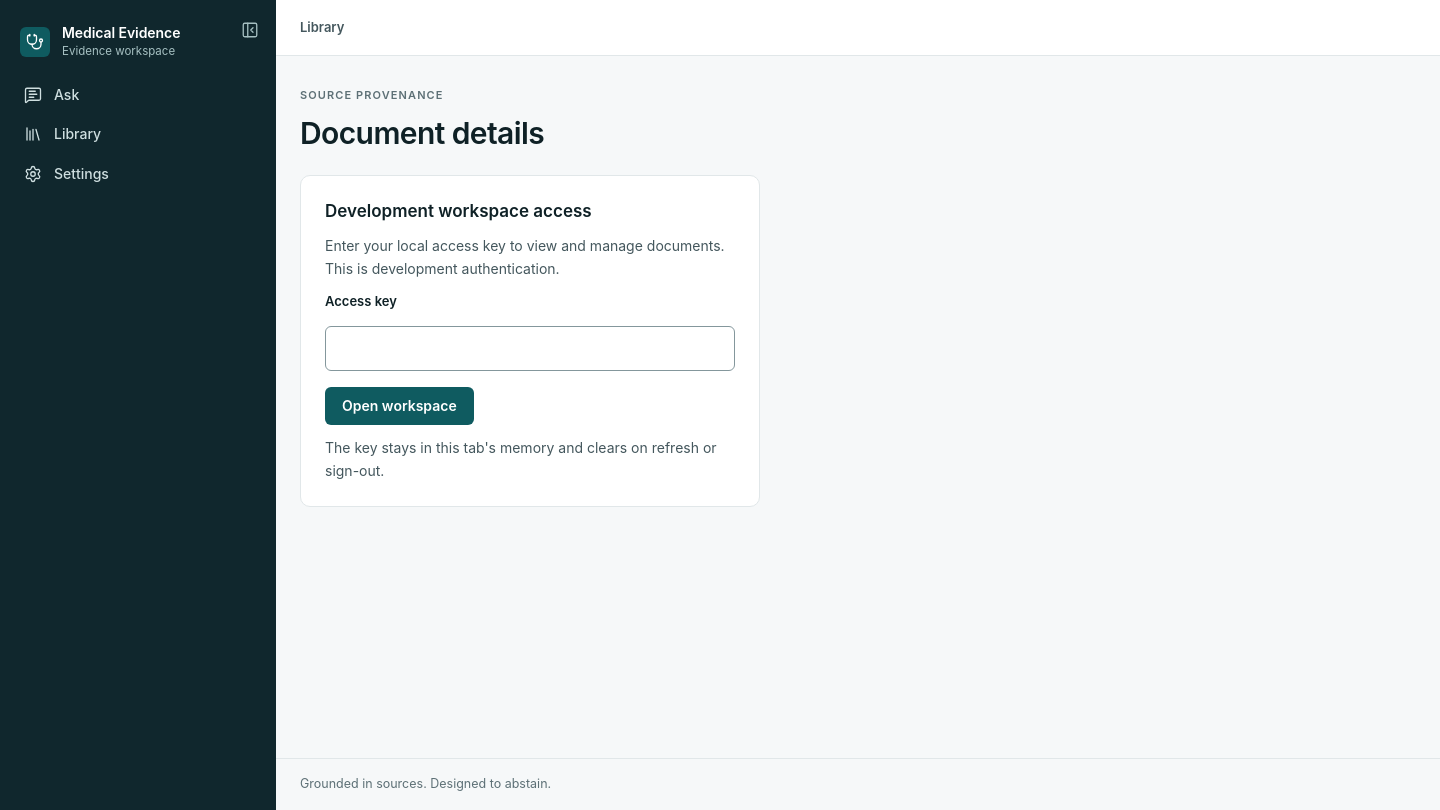
it: M2 parse status on the document details page › states plainly when a version has not been parsed
This screenshot has width=1440, height=810.
Type "local-test-key" into the password field labelled "Access key". click: (530, 349)
box: [325,326,735,371]
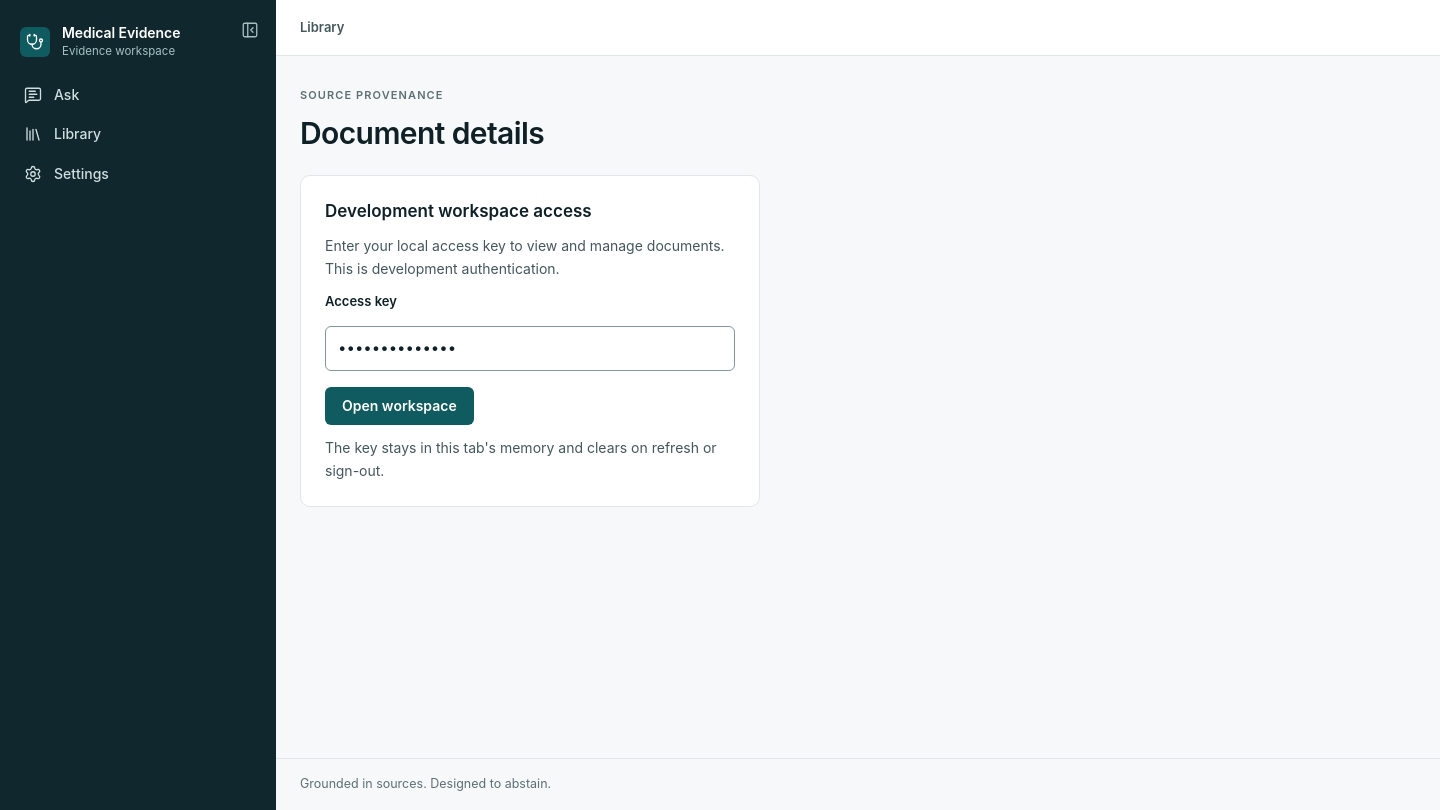
Click the button "Open workspace". click: (399, 406)
box: [325,387,474,425]
(page scrolled)
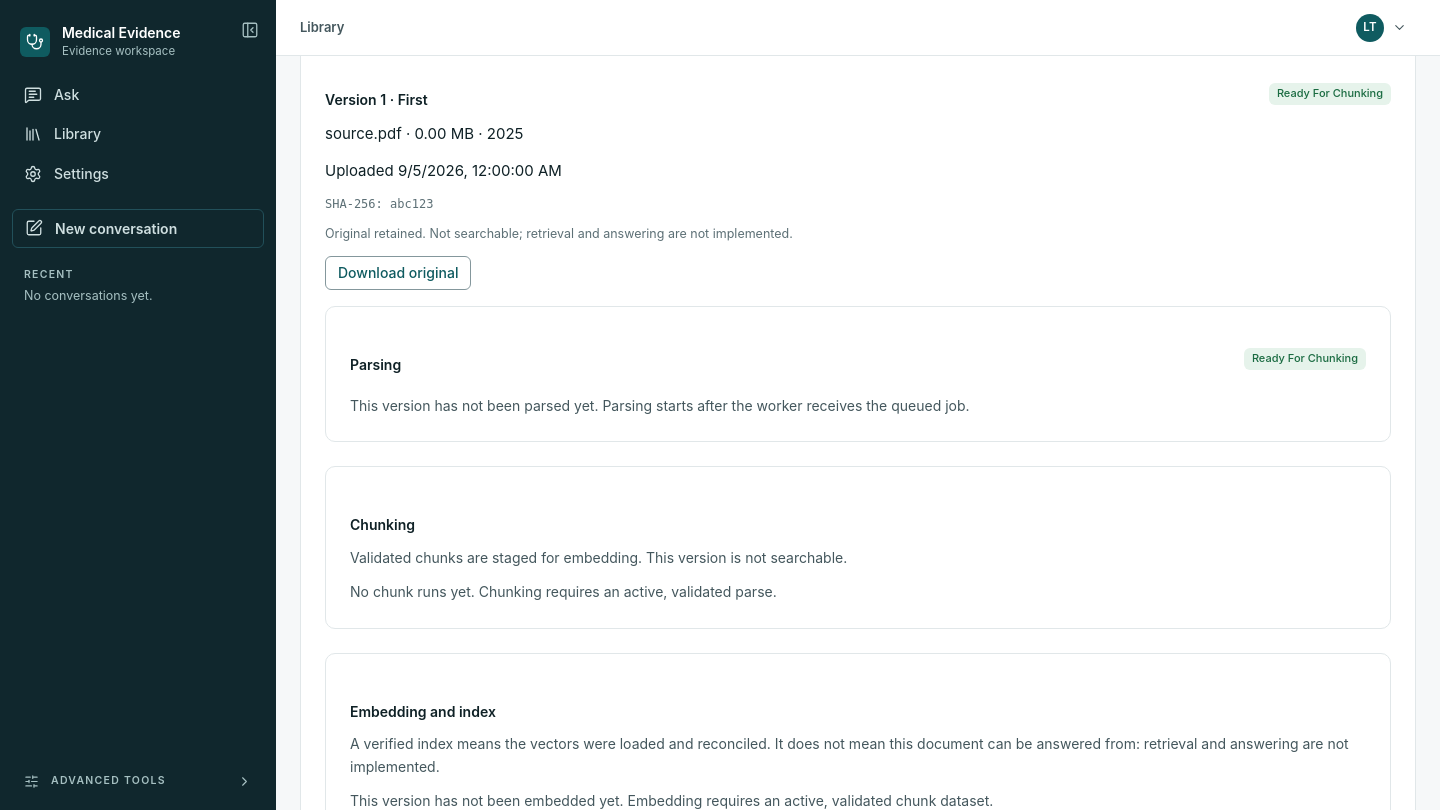
Check: the button named "Account and workspace" is shown, box [1351,8,1416,46]
Check: the text "has not been parsed yet" is shown, box [350,397,970,414]
